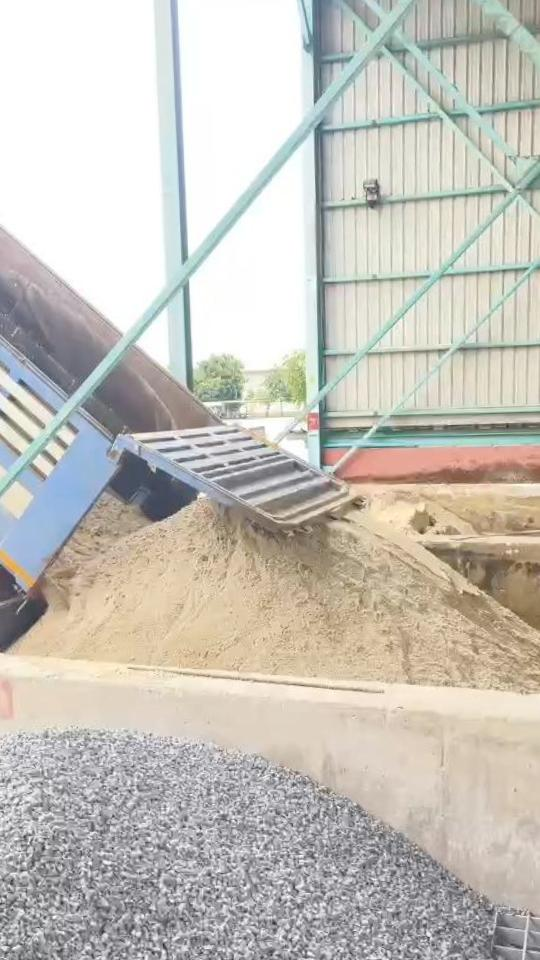gravel: (0, 730, 540, 960)
sand: (17, 501, 540, 692), (41, 494, 148, 606), (368, 493, 473, 536)
